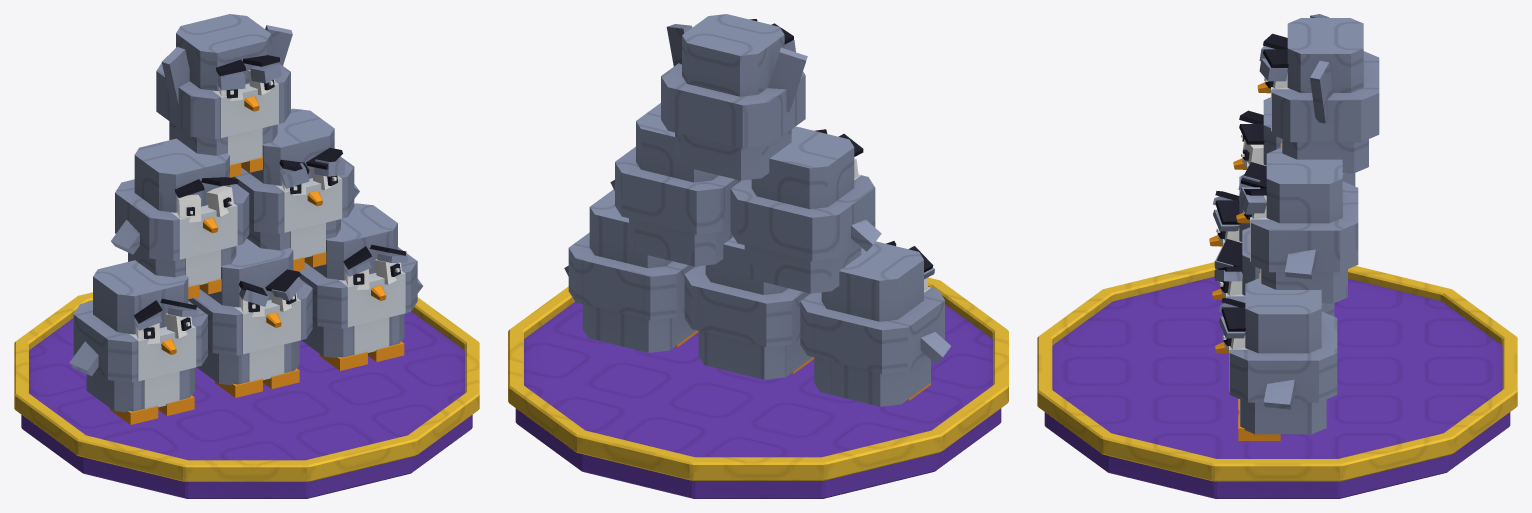
Rendered from PenguinStack.fbx.
The picture shows the model from 3 angles, left to right: view 1: azimuth 30°, elevation 25°; view 2: azimuth 150°, elevation 25°; view 3: azimuth 270°, elevation 25°; orthographic projection. The views are drawn at different scales.
Visible parts, largest first — view 1: Art_PenguinStack_Stand, Art_PenguinStack_Bottom, Art_PenguinStack_Middle, Art_PenguinStack_Top; view 2: Art_PenguinStack_Stand, Art_PenguinStack_Bottom, Art_PenguinStack_Middle, Art_PenguinStack_Top; view 3: Art_PenguinStack_Stand, Art_PenguinStack_Bottom, Art_PenguinStack_Middle, Art_PenguinStack_Top.
Boxes of the visible parts, x1,y1,x2,y2 form: Art_PenguinStack_Stand: (14,292,479,498); Art_PenguinStack_Bottom: (69,203,422,424); Art_PenguinStack_Middle: (111,108,359,299); Art_PenguinStack_Top: (156,14,292,177); Art_PenguinStack_Stand: (508,277,1008,498); Art_PenguinStack_Bottom: (564,189,950,406); Art_PenguinStack_Middle: (610,103,881,293); Art_PenguinStack_Top: (661,14,807,180); Art_PenguinStack_Stand: (1037,262,1517,498); Art_PenguinStack_Bottom: (1209,176,1337,440); Art_PenguinStack_Middle: (1233,97,1358,303); Art_PenguinStack_Top: (1257,14,1379,173).
Size of the model in its own units: 3.19 by 2.67 by 3.19.
